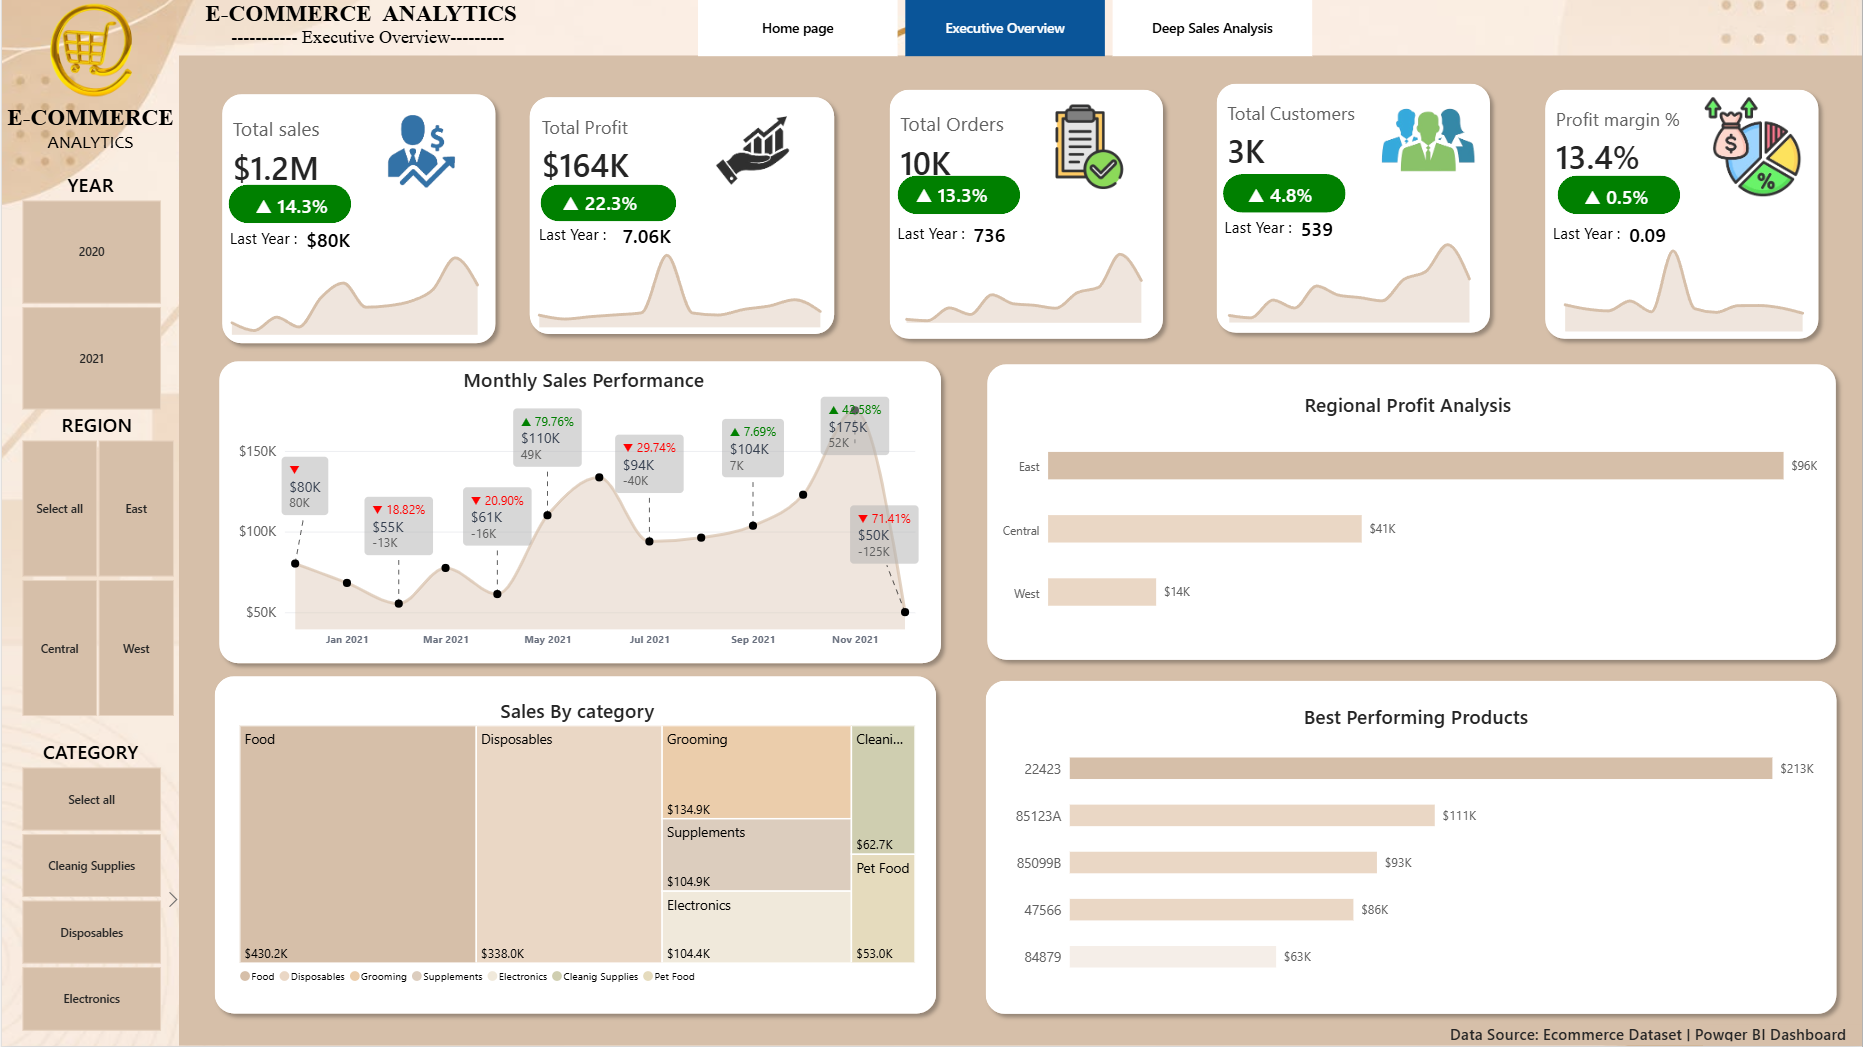

The dashboard page shown, as its layout file describes it:
{"tool":"powerbi","page":{"name":"Executive Overview","canvas":[1920,1080],"ordinal":1},"visuals":[{"type":"group","id":"g1","title":"Executive Overview","box":[0,0,1920.2,1080.5],"z":0},{"type":"shape","box":[182,58,1738,1022],"z":0,"group":"g1"},{"type":"shape","box":[1244.6,77.5,300,275],"z":0,"group":"g2"},{"type":"group","id":"g2","title":"sales","box":[1244.6,77.5,300,275],"z":0,"group":"g21"},{"type":"shape","box":[906.9,84,300,275],"z":0,"group":"g3"},{"type":"group","id":"g3","title":"sales","box":[906.9,84,300,275],"z":0,"group":"g20"},{"type":"group","id":"g4","title":"sales","box":[1583.3,84,300,275],"z":0,"group":"g22"},{"type":"shape","box":[1583.3,84,300,275],"z":0,"group":"g4"},{"type":"group","id":"g5","title":"sales","box":[218.6,88.3,300,275],"z":0,"group":"g18"},{"type":"shape","box":[218.6,88.3,300,275],"z":0,"group":"g5"},{"type":"shape","box":[535.4,90.6,332.2,262.4],"z":0,"group":"g6"},{"type":"group","id":"g6","title":"sales","box":[535.4,90.6,332.2,262.4],"z":0,"group":"g19"},{"type":"shape","title":"YOY BG","box":[1259.6,179.2,126.7,40],"z":0,"group":"g8"},{"type":"shape","title":"YOY BG","box":[1604.7,181.6,126.7,40],"z":0,"group":"g10"},{"type":"shape","title":"YOY BG","box":[923,181.8,126.7,40],"z":0,"group":"g9"},{"type":"shape","title":"YOY BG","box":[555.6,189.8,140.3,38.2],"z":0,"group":"g11"},{"type":"shape","title":"YOY BG","box":[233.6,190,126.7,40],"z":0,"group":"g12"},{"type":"cardVisual","title":"YOY%","fields":{"Data":["_measures.Last Year Customer"]},"box":[1328,217.5,103.3,35],"z":0,"group":"g13"},{"type":"cardVisual","title":"YOY%","fields":{"Data":["_measures.Last year orders"]},"box":[990.3,224,103.3,35],"z":0,"group":"g14"},{"type":"cardVisual","title":"YOY%","fields":{"Data":["_measures.Last year profit maargin"]},"box":[1666.7,224,103.3,35],"z":0,"group":"g15"},{"type":"cardVisual","title":"YOY%","fields":{"Data":["_measures.Last Year profit"]},"box":[627.7,224.2,114.4,33.4],"z":0,"group":"g16"},{"type":"cardVisual","title":"YOY%","fields":{"Data":["_measures.Last Year sales"]},"box":[302,228.3,103.3,35],"z":0,"group":"g17"},{"type":"shape","box":[215.7,364.3,763,329.9],"z":0,"group":"g23"},{"type":"shape","box":[1008.1,366.2,893.9,323.1],"z":0,"group":"g25"},{"type":"group","id":"g7","title":"sales By Category","box":[211.1,689.3,762.5,366.2],"z":0,"group":"g24"},{"type":"shape","box":[211.1,689.3,762.5,366.2],"z":0,"group":"g7"},{"type":"shape","box":[1006,693.6,896.1,361.9],"z":0,"group":"g26"},{"type":"image","box":[0,0,182.9,117.1],"z":1000,"group":"g1"},{"type":"cardVisual","fields":{"Data":["_measures.Total Customers"]},"box":[1252.9,90.8,276.7,108.3],"z":1000,"group":"g2"},{"type":"cardVisual","fields":{"Data":["_measures.Total Orders"]},"box":[915.2,97.3,276.7,108.3],"z":1000,"group":"g3"},{"type":"cardVisual","fields":{"Data":["_measures.Profit margin %"]},"box":[1591.6,97.3,276.7,108.3],"z":1000,"group":"g4"},{"type":"cardVisual","fields":{"Data":["_measures.Total sales"]},"box":[226.9,101.6,276.7,108.3],"z":1000,"group":"g5"},{"type":"cardVisual","fields":{"Data":["_measures.Total Profit"]},"box":[544.6,103.3,306.4,103.4],"z":1000,"group":"g6"},{"type":"cardVisual","title":"YOY%","fields":{"Data":["_measures.Customers YOY %"]},"box":[1254.1,179.2,131.7,38.3],"z":1000,"group":"g8"},{"type":"cardVisual","title":"YOY%","fields":{"Data":["_measures.Orders YOY%"]},"box":[914.5,180.5,131.7,38.3],"z":1000,"group":"g9"},{"type":"cardVisual","title":"YOY%","fields":{"Data":["_measures.Profit margin YOY%"]},"box":[1600.6,181.2,131.7,38.3],"z":1000,"group":"g10"},{"type":"cardVisual","title":"YOY%","fields":{"Data":["_measures.profit YOY %"]},"box":[544.5,188.3,145.8,36.6],"z":1000,"group":"g11"},{"type":"cardVisual","title":"YOY%","fields":{"Data":["_measures.YOY %"]},"box":[233.6,190,131.7,38.3],"z":1000,"group":"g12"},{"type":"lineChart","fields":{"Category":["Date table.Date.Variation.Date Hierarchy.Month"],"Y":["_measures.Total Orders"]},"box":[909.2,216,292,134],"z":1000,"group":"g20"},{"type":"shape","box":[1261.3,217.5,101.7,35],"z":1000,"group":"g13"},{"type":"lineChart","fields":{"Category":["Date table.Date.Variation.Date Hierarchy.Month"],"Y":["_measures.Total Customers"]},"box":[1241.2,222.4,298,126],"z":1000,"group":"g21"},{"type":"lineChart","fields":{"Category":["Date table.Date.Variation.Date Hierarchy.Month"],"Y":["_measures.Total Profit"]},"box":[527.4,223.1,343.3,130.4],"z":1000,"group":"g19"},{"type":"shape","box":[923.6,224,101.7,35],"z":1000,"group":"g14"},{"type":"shape","box":[1600,224,101.7,35],"z":1000,"group":"g15"},{"type":"shape","box":[553.9,224.2,112.6,33.4],"z":1000,"group":"g16"},{"type":"lineChart","fields":{"Category":["Date table.Date.Variation.Date Hierarchy.Month"],"Y":["_measures.Total sales"]},"box":[211.9,227.8,304,134],"z":1000,"group":"g18"},{"type":"shape","box":[235.3,228.3,101.7,35],"z":1000,"group":"g17"},{"type":"lineChart","fields":{"Category":["Date table.Date.Variation.Date Hierarchy.Month"],"Y":["_measures.Profit margin %"]},"box":[1587.7,230.1,295,130],"z":1000,"group":"g22"},{"type":"lineChart","title":"Monthly Sales Performance","fields":{"Category":["Date table.Date.Variation.Date Hierarchy.Year","Date table.Date.Variation.Date Hierarchy.Month"],"Y":["_measures.Total sales"]},"box":[227.3,364.3,745.6,323.8],"z":1000,"group":"g23"},{"type":"clusteredBarChart","title":"Regional Profit Analysis","fields":{"Category":["state_region_mapping.Region"],"Y":["_measures.Total Profit"]},"box":[1019.6,391.4,864.6,275.9],"z":1000,"group":"g25"},{"type":"treemap","title":"Sales By category","fields":{"Group":["dim_products.Category"],"Values":["_measures.Total sales"]},"box":[236,702.5,717.2,334.6],"z":1000,"group":"g7"},{"type":"clusteredBarChart","title":"Best Performing Products","fields":{"Category":["dim_products.Stock Code"],"Y":["_measures.Total sales"]},"box":[1030.2,713.9,856.6,318.5],"z":1000,"group":"g26"},{"type":"cardVisual","fields":{"Data":["_measures.Test"]},"box":[1480.8,1056.7,438.6,19.9],"z":1000},{"type":"pageNavigator","box":[718,0,636,58],"z":2000},{"type":"textbox","box":[0,107.1,182.9,72.9],"z":2000,"group":"g1"},{"type":"group","id":"g8","title":"YOY","box":[1254.1,179.2,132.2,40],"z":2000,"group":"g2"},{"type":"group","id":"g9","title":"YOY","box":[914.5,180.5,135.2,41.3],"z":2000,"group":"g3"},{"type":"group","id":"g10","title":"YOY","box":[1600.6,181.2,131.7,40.4],"z":2000,"group":"g4"},{"type":"group","id":"g11","title":"YOY","box":[544.5,188.3,151.3,39.7],"z":2000,"group":"g6"},{"type":"group","id":"g12","title":"YOY","box":[233.6,190,131.7,40],"z":2000,"group":"g5"},{"type":"textbox","box":[196,0,348,66],"z":3000,"group":"g1"},{"type":"group","id":"g13","title":"LY","box":[1261.3,217.5,170,35],"z":3000,"group":"g2"},{"type":"group","id":"g14","title":"LY","box":[923.6,224,170,35],"z":3000,"group":"g3"},{"type":"group","id":"g15","title":"LY","box":[1600,224,170,35],"z":3000,"group":"g4"},{"type":"group","id":"g16","title":"LY","box":[553.9,224.2,188.2,33.4],"z":3000,"group":"g6"},{"type":"group","id":"g17","title":"LY","box":[235.3,228.3,170,35],"z":3000,"group":"g5"},{"type":"group","id":"g18","title":"sales","box":[211.9,88.3,306.7,275],"z":4000,"group":"g1"},{"type":"group","id":"g19","title":" Profit","box":[527.4,90.6,343.5,261],"z":5000,"group":"g1"},{"type":"group","id":"g20","title":" orders","box":[906.9,84,300,275],"z":6000,"group":"g1"},{"type":"group","id":"g21","title":"Orders","box":[1241.2,77.5,303.4,275],"z":7000,"group":"g1"},{"type":"group","id":"g22","title":"Orders","box":[1583.3,84,299.4,275.7],"z":8000,"group":"g1"},{"type":"group","id":"g23","title":"Monthly sales Performance","box":[215.7,364.3,763,329.9],"z":9000,"group":"g1"},{"type":"group","id":"g24","title":"Sales By Category","box":[211.1,689.3,762.5,366.2],"z":10000,"group":"g1"},{"type":"group","id":"g25","title":"Regional Profit Analysis","box":[1008.1,366.2,893.9,323.1],"z":11000,"group":"g1"},{"type":"group","id":"g26","title":"Best Performing Products","box":[1006,693.6,896.1,361.9],"z":12000,"group":"g1"},{"type":"slicer","title":"YEAR","fields":{"Values":["Date table.Year"]},"box":[0,175.8,183.1,248.3],"z":13000,"group":"g1"},{"type":"slicer","title":"REGION","fields":{"Values":["state_region_mapping.Region"]},"box":[0,424.4,196,316.7],"z":14000,"group":"g1"},{"type":"shape","box":[1755.2,1057.5,165,23],"z":15000,"group":"g1"},{"type":"slicer","title":"CATEGORY","fields":{"Values":["dim_products.Category"]},"box":[0,762.5,183.1,303.7],"z":16000,"group":"g1"}]}

Visuals, with their boxes in screenshot pixels (x1, y1, x2, y2), scaled from the page's 1920x1080 canvas onto the 1863x1047 screenshot:
"Executive Overview" group: <bbox>0, 0, 1862, 1046</bbox>
shape: <bbox>177, 56, 1862, 1046</bbox>
shape: <bbox>1208, 75, 1499, 342</bbox>
"sales" group: <bbox>1208, 75, 1499, 342</bbox>
shape: <bbox>880, 81, 1171, 348</bbox>
"sales" group: <bbox>880, 81, 1171, 348</bbox>
"sales" group: <bbox>1536, 81, 1827, 348</bbox>
shape: <bbox>1536, 81, 1827, 348</bbox>
"sales" group: <bbox>212, 86, 503, 352</bbox>
shape: <bbox>212, 86, 503, 352</bbox>
shape: <bbox>520, 88, 842, 342</bbox>
"sales" group: <bbox>520, 88, 842, 342</bbox>
"YOY BG" shape: <bbox>1222, 174, 1345, 213</bbox>
"YOY BG" shape: <bbox>1557, 176, 1680, 215</bbox>
"YOY BG" shape: <bbox>896, 176, 1019, 215</bbox>
"YOY BG" shape: <bbox>539, 184, 675, 221</bbox>
"YOY BG" shape: <bbox>227, 184, 350, 223</bbox>
"YOY%" cardVisual: <bbox>1289, 211, 1389, 245</bbox>
"YOY%" cardVisual: <bbox>961, 217, 1061, 251</bbox>
"YOY%" cardVisual: <bbox>1617, 217, 1717, 251</bbox>
"YOY%" cardVisual: <bbox>609, 217, 720, 250</bbox>
"YOY%" cardVisual: <bbox>293, 221, 393, 255</bbox>
shape: <bbox>209, 353, 950, 673</bbox>
shape: <bbox>978, 355, 1846, 668</bbox>
"sales By Category" group: <bbox>205, 668, 945, 1023</bbox>
shape: <bbox>205, 668, 945, 1023</bbox>
shape: <bbox>976, 672, 1846, 1023</bbox>
image: <bbox>0, 0, 177, 114</bbox>
cardVisual - _measures.Total Customers: <bbox>1216, 88, 1484, 193</bbox>
cardVisual - _measures.Total Orders: <bbox>888, 94, 1157, 199</bbox>
cardVisual - _measures.Profit margin %: <bbox>1544, 94, 1813, 199</bbox>
cardVisual - _measures.Total sales: <bbox>220, 98, 489, 203</bbox>
cardVisual - _measures.Total Profit: <bbox>528, 100, 826, 200</bbox>
"YOY%" cardVisual: <bbox>1217, 174, 1345, 211</bbox>
"YOY%" cardVisual: <bbox>887, 175, 1015, 212</bbox>
"YOY%" cardVisual: <bbox>1553, 176, 1681, 213</bbox>
"YOY%" cardVisual: <bbox>528, 183, 670, 218</bbox>
"YOY%" cardVisual: <bbox>227, 184, 354, 221</bbox>
lineChart - Date table.Date.Variation.Date Hierarchy.Month x _measures.Total Orders: <bbox>882, 209, 1166, 339</bbox>
shape: <bbox>1224, 211, 1323, 245</bbox>
lineChart - Date table.Date.Variation.Date Hierarchy.Month x _measures.Total Customers: <bbox>1204, 216, 1494, 338</bbox>
lineChart - Date table.Date.Variation.Date Hierarchy.Month x _measures.Total Profit: <bbox>512, 216, 845, 343</bbox>
shape: <bbox>896, 217, 995, 251</bbox>
shape: <bbox>1552, 217, 1651, 251</bbox>
shape: <bbox>537, 217, 647, 250</bbox>
lineChart - Date table.Date.Variation.Date Hierarchy.Month x _measures.Total sales: <bbox>206, 221, 501, 351</bbox>
shape: <bbox>228, 221, 327, 255</bbox>
lineChart - Date table.Date.Variation.Date Hierarchy.Month x _measures.Profit margin %: <bbox>1541, 223, 1827, 349</bbox>
"Monthly Sales Performance" lineChart: <bbox>221, 353, 944, 667</bbox>
"Regional Profit Analysis" clusteredBarChart: <bbox>989, 379, 1828, 647</bbox>
"Sales By category" treemap: <bbox>229, 681, 925, 1005</bbox>
"Best Performing Products" clusteredBarChart: <bbox>1000, 692, 1831, 1001</bbox>
cardVisual - _measures.Test: <bbox>1437, 1024, 1862, 1044</bbox>
pageNavigator: <bbox>697, 0, 1314, 56</bbox>
textbox: <bbox>0, 104, 177, 174</bbox>
"YOY" group: <bbox>1217, 174, 1345, 213</bbox>
"YOY" group: <bbox>887, 175, 1019, 215</bbox>
"YOY" group: <bbox>1553, 176, 1681, 215</bbox>
"YOY" group: <bbox>528, 183, 675, 221</bbox>
"YOY" group: <bbox>227, 184, 354, 223</bbox>
textbox: <bbox>190, 0, 528, 64</bbox>
"LY" group: <bbox>1224, 211, 1389, 245</bbox>
"LY" group: <bbox>896, 217, 1061, 251</bbox>
"LY" group: <bbox>1552, 217, 1717, 251</bbox>
"LY" group: <bbox>537, 217, 720, 250</bbox>
"LY" group: <bbox>228, 221, 393, 255</bbox>
"sales" group: <bbox>206, 86, 503, 352</bbox>
" Profit" group: <bbox>512, 88, 845, 341</bbox>
" orders" group: <bbox>880, 81, 1171, 348</bbox>
"Orders" group: <bbox>1204, 75, 1499, 342</bbox>
"Orders" group: <bbox>1536, 81, 1827, 349</bbox>
"Monthly sales Performance" group: <bbox>209, 353, 950, 673</bbox>
"Sales By Category" group: <bbox>205, 668, 945, 1023</bbox>
"Regional Profit Analysis" group: <bbox>978, 355, 1846, 668</bbox>
"Best Performing Products" group: <bbox>976, 672, 1846, 1023</bbox>
"YEAR" slicer: <bbox>0, 170, 178, 411</bbox>
"REGION" slicer: <bbox>0, 411, 190, 718</bbox>
shape: <bbox>1703, 1025, 1862, 1046</bbox>
"CATEGORY" slicer: <bbox>0, 739, 178, 1034</bbox>
